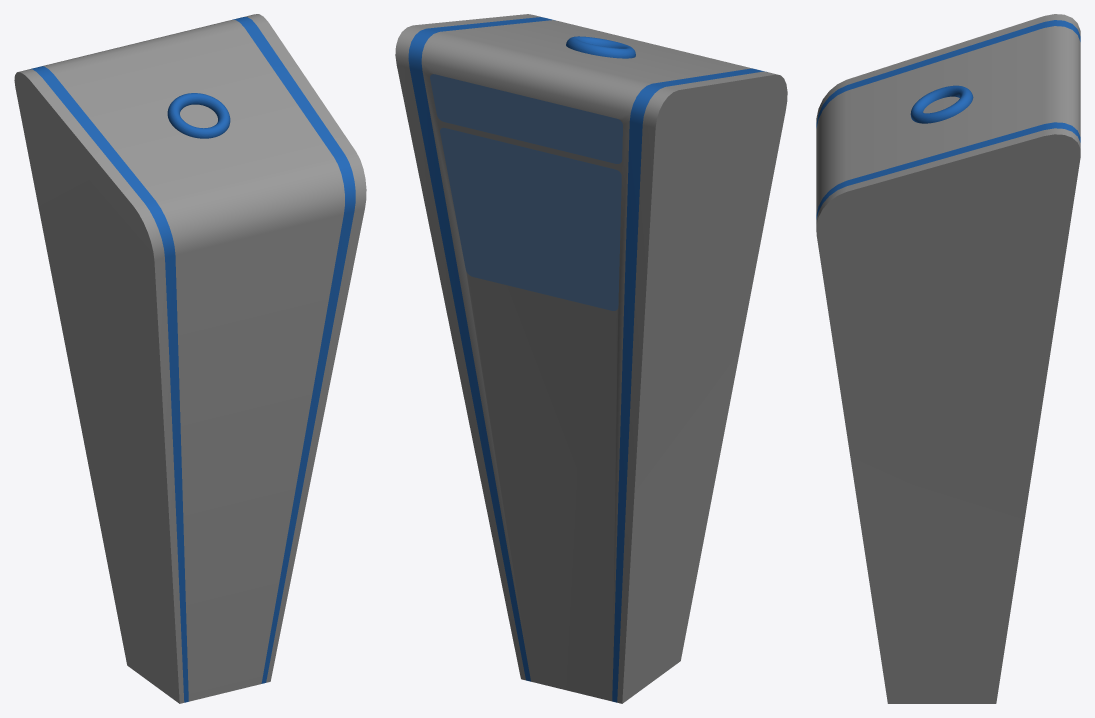
File: Podium2.glb
3 renders of one model, left to right at view 1: azimuth 30°, elevation 25°; view 2: azimuth 150°, elevation 25°; view 3: azimuth 270°, elevation 25°, orthographic. The views are drawn at different scales.
Parts seen in each view (by area): view 1: base, stripes, Torus; view 2: base, panels, stripes, Torus; view 3: base, stripes, Torus.
Boxes of the visible parts, x1,y1,x2,y2 form: base: (14, 14, 366, 703); stripes: (30, 17, 355, 702); Torus: (167, 93, 230, 138); base: (395, 14, 787, 703); panels: (430, 74, 622, 310); stripes: (408, 17, 766, 702); Torus: (566, 36, 635, 58); base: (816, 14, 1080, 703); stripes: (816, 20, 1080, 219); Torus: (910, 85, 973, 123).
Bounding box in the file's own units: 0.5651 × 1.33 × 0.5244.
